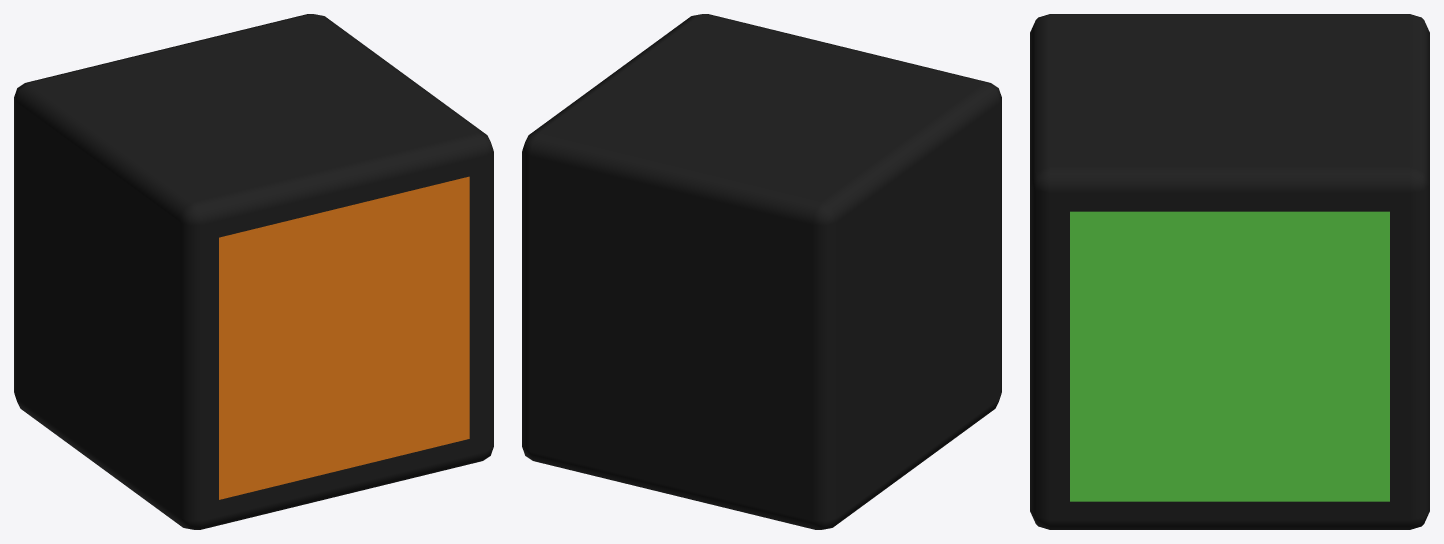
The picture shows the model from 3 angles, left to right: view 1: azimuth 30°, elevation 25°; view 2: azimuth 150°, elevation 25°; view 3: azimuth 270°, elevation 25°; orthographic projection. The views are drawn at different scales.
Parts seen in each view (by area): view 1: 7; view 2: 7; view 3: 7.
Part boxes in pixels (x1,y1,x2,y2): 7: (14, 14, 493, 529); 7: (522, 14, 1001, 529); 7: (1030, 14, 1429, 529).
Size of the model in its own units: 2 by 2 by 2.
